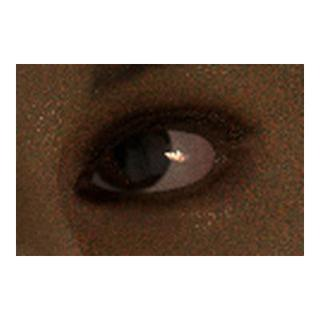pupil: (115, 136, 144, 165)
